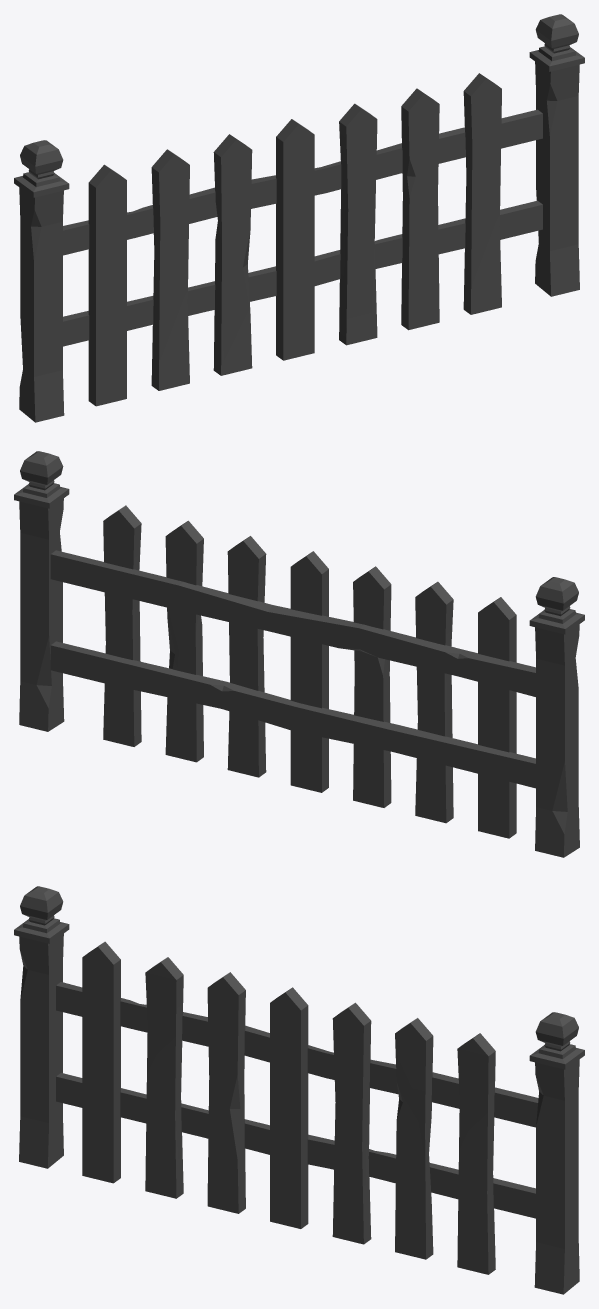
File: Fence_01_2Pillars.fbx
The picture shows the model from 3 angles, top to bottom: view 1: azimuth 30°, elevation 25°; view 2: azimuth 150°, elevation 25°; view 3: azimuth 330°, elevation 25°; orthographic projection.
Parts seen in each view (by area): view 1: SM_Env_Fence_White_Straight_01.001; view 2: SM_Env_Fence_White_Straight_01.001; view 3: SM_Env_Fence_White_Straight_01.001.
Part boxes in pixels (box(x1,y1,x2,y2)): SM_Env_Fence_White_Straight_01.001: box(14, 14, 584, 422); SM_Env_Fence_White_Straight_01.001: box(14, 451, 584, 857); SM_Env_Fence_White_Straight_01.001: box(14, 886, 584, 1294).
Bounding box in the file's own units: 275 × 128 × 16.96.
